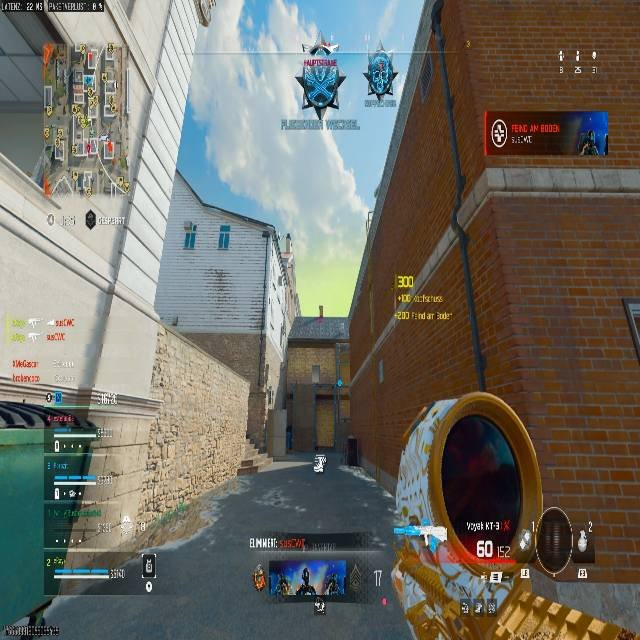player: (294, 42, 347, 120), (363, 51, 397, 99)
